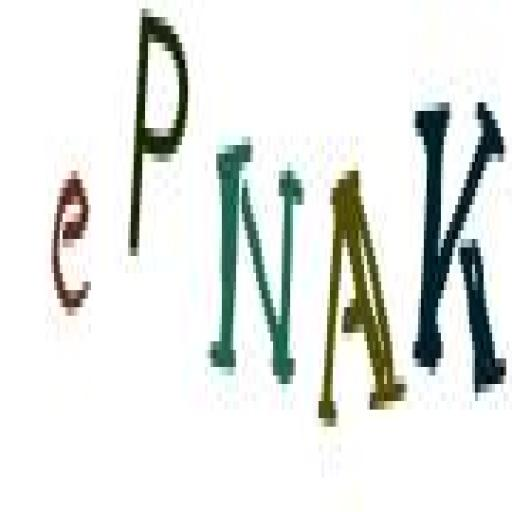A: (316, 158, 405, 446)
K: (414, 78, 512, 403)
N: (209, 134, 307, 406)
P: (126, 2, 191, 280)
e: (49, 155, 95, 336)
